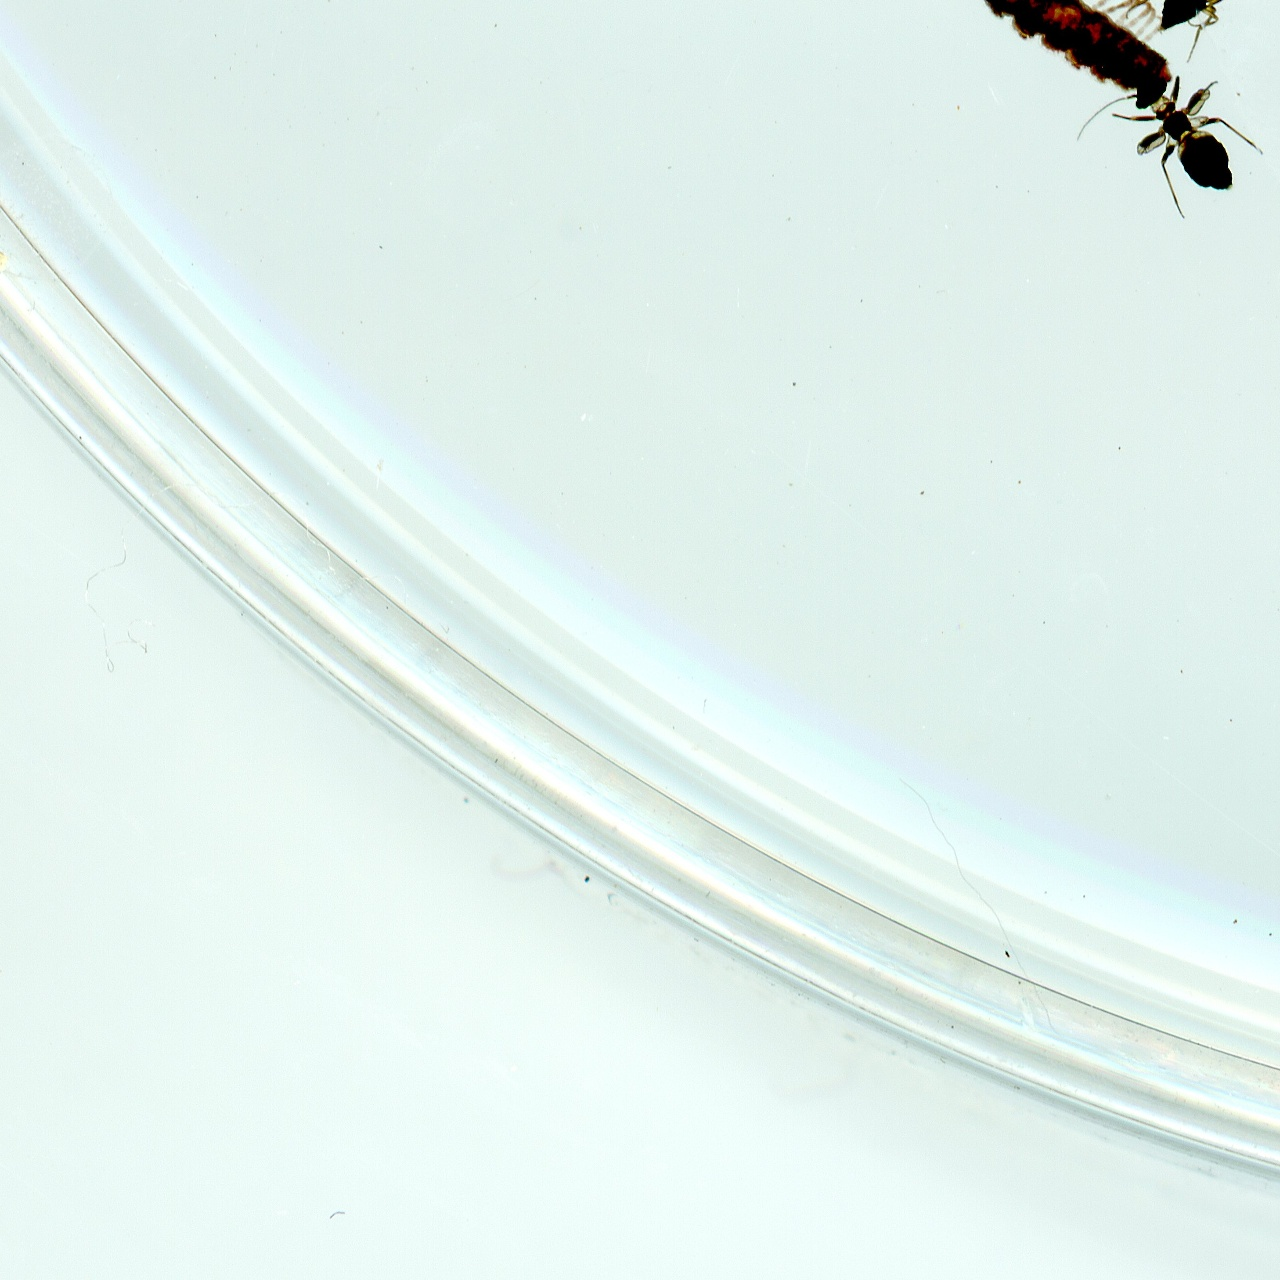arthropod: (1063, 36, 1280, 251), (935, 0, 1182, 98), (1119, 0, 1253, 68)
